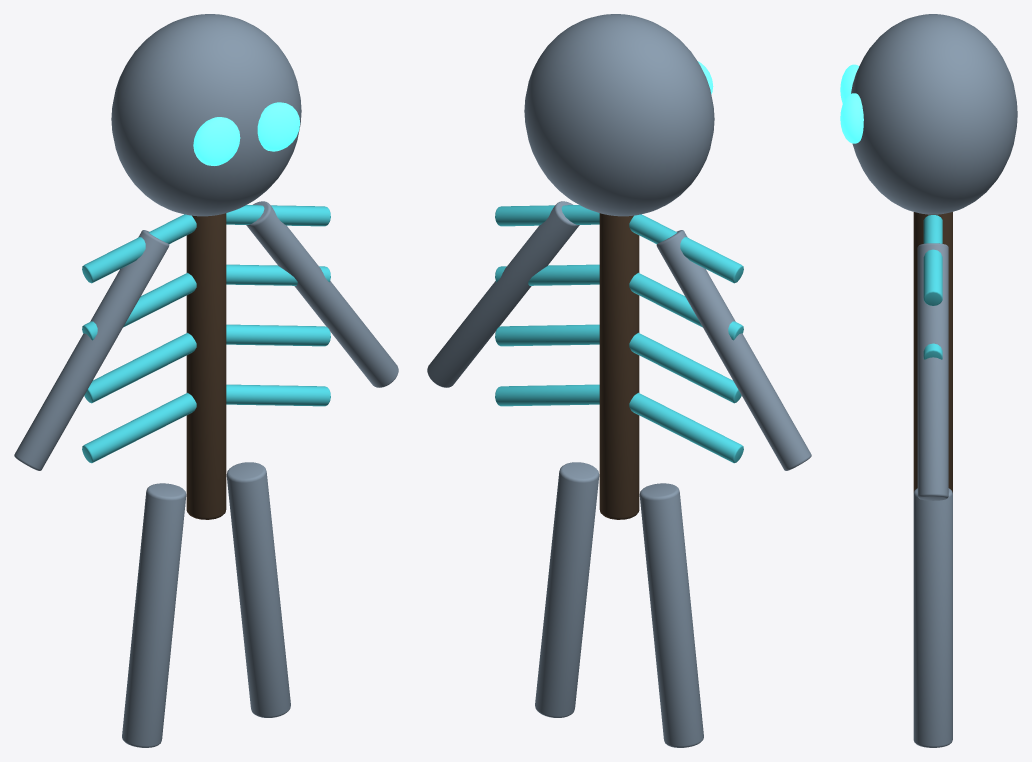
File: undead_v2.glb
The picture shows the model from 3 angles, left to right: view 1: azimuth 30°, elevation 25°; view 2: azimuth 150°, elevation 25°; view 3: azimuth 270°, elevation 25°; orthographic projection. The views are drawn at different scales.
Visible parts, largest first — view 1: SKULL_PRIMARY, SPINE_SECONDARY, BONE_LEG_PRIMARY, BONE_LEG_PRIMARY.001, BONE_ARM_PRIMARY, BONE_ARM_PRIMARY.001, RIB_L_ACCENT, RIB_L_ACCENT.001, RIB_L_ACCENT.003, RIB_R_ACCENT.001, RIB_R_ACCENT, EYE_EMISSIVE (+4 smaller); view 2: SKULL_PRIMARY, SPINE_SECONDARY, BONE_LEG_PRIMARY, BONE_LEG_PRIMARY.001, BONE_ARM_PRIMARY, BONE_ARM_PRIMARY.001, RIB_L_ACCENT, RIB_L_ACCENT.001, RIB_L_ACCENT.003, RIB_R_ACCENT.001, RIB_R_ACCENT, RIB_R_ACCENT.003 (+2 smaller); view 3: SKULL_PRIMARY, BONE_LEG_PRIMARY.001, BONE_ARM_PRIMARY.001, SPINE_SECONDARY, RIB_R_ACCENT.003, EYE_EMISSIVE.001, EYE_EMISSIVE.
Boxes of the visible parts, x1,y1,x2,y2 form: SKULL_PRIMARY: [111, 14, 301, 216]; SPINE_SECONDARY: [186, 213, 226, 519]; BONE_LEG_PRIMARY: [122, 483, 186, 747]; BONE_LEG_PRIMARY.001: [226, 462, 290, 717]; BONE_ARM_PRIMARY: [14, 230, 169, 470]; BONE_ARM_PRIMARY.001: [246, 201, 398, 387]; RIB_L_ACCENT: [82, 392, 196, 463]; RIB_L_ACCENT.001: [84, 332, 196, 403]; RIB_L_ACCENT.003: [82, 214, 196, 283]; RIB_R_ACCENT.001: [226, 324, 330, 346]; RIB_R_ACCENT: [226, 384, 330, 406]; EYE_EMISSIVE: [193, 117, 240, 165]; SKULL_PRIMARY: [524, 14, 714, 216]; SPINE_SECONDARY: [599, 213, 639, 519]; BONE_LEG_PRIMARY: [639, 483, 703, 747]; BONE_LEG_PRIMARY.001: [535, 462, 599, 717]; BONE_ARM_PRIMARY: [656, 230, 811, 470]; BONE_ARM_PRIMARY.001: [427, 201, 579, 387]; RIB_L_ACCENT: [629, 392, 743, 463]; RIB_L_ACCENT.001: [629, 332, 741, 403]; RIB_L_ACCENT.003: [629, 214, 743, 283]; RIB_R_ACCENT.001: [495, 324, 599, 346]; RIB_R_ACCENT: [495, 384, 599, 406]; RIB_R_ACCENT.003: [495, 205, 599, 226]; SKULL_PRIMARY: [851, 14, 1017, 214]; BONE_LEG_PRIMARY.001: [913, 488, 952, 747]; BONE_ARM_PRIMARY.001: [917, 243, 948, 500]; SPINE_SECONDARY: [913, 212, 952, 492]; RIB_R_ACCENT.003: [923, 215, 942, 305]; EYE_EMISSIVE.001: [840, 93, 863, 143]; EYE_EMISSIVE: [840, 64, 859, 103].
Bounding box in the file's own units: 1.52 × 2.71 × 0.63.
